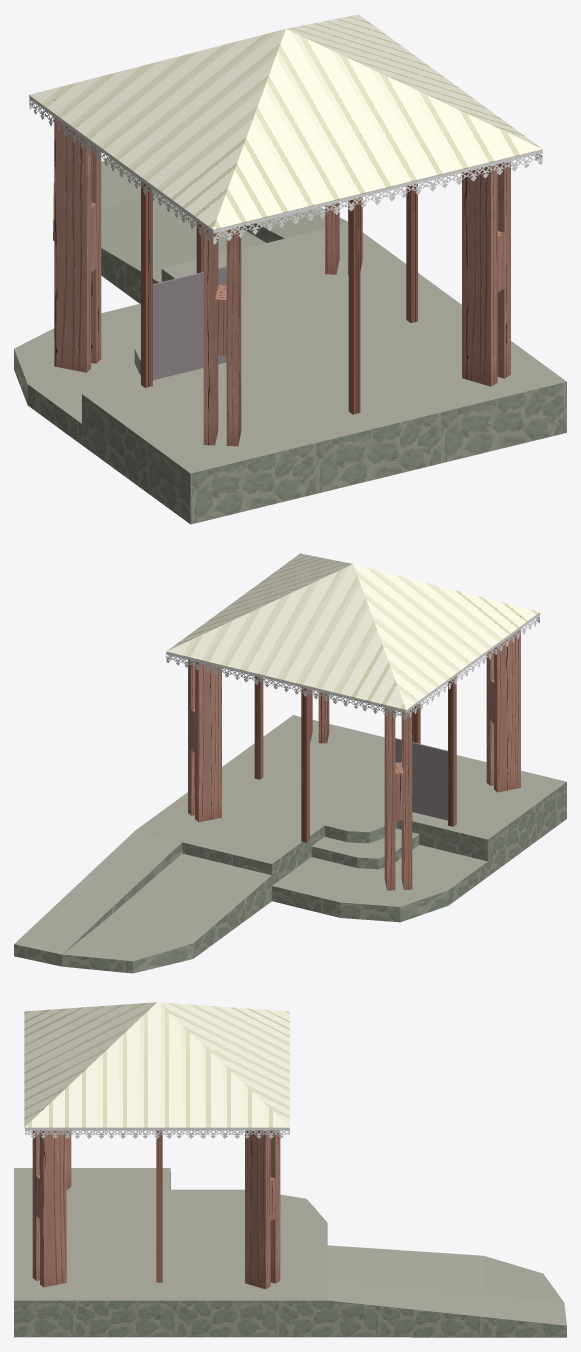
File: Kiosque_Mairie.fbx
3 views of the same model, one above another, from view 1: azimuth 30°, elevation 25°; view 2: azimuth 150°, elevation 25°; view 3: azimuth 270°, elevation 25° (orthographic). The views are drawn at different scales.
Visible parts, largest first — view 1: Plane.021, Plane.016, Plane.014; view 2: Plane.021, Plane.016, Plane.014; view 3: Plane.021, Plane.016, Plane.014.
Part boxes in pixels (x1=…): Plane.021: x1=14, y1=158, x2=566, y2=524; Plane.016: x1=29, y1=14, x2=542, y2=244; Plane.014: x1=54, y1=99, x2=510, y2=446; Plane.021: x1=14, y1=715, x2=566, y2=973; Plane.016: x1=166, y1=553, x2=540, y2=720; Plane.014: x1=188, y1=615, x2=520, y2=890; Plane.021: x1=14, y1=1168, x2=566, y2=1337; Plane.016: x1=24, y1=1002, x2=289, y2=1138; Plane.014: x1=32, y1=1130, x2=280, y2=1289.
Bounding box in the file's own units: 2052 × 1955 × 3611.
